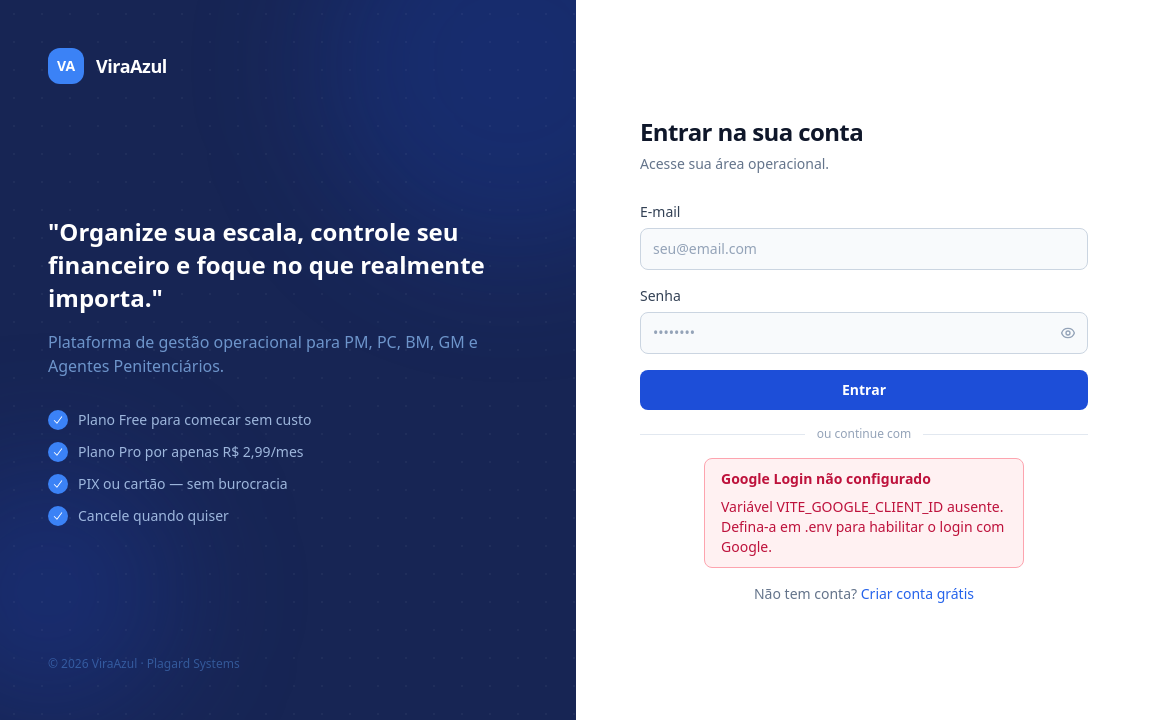
Scenario: Auth and App Shell integration › shows validation errors for invalid login submit
The width and height of the screenshot is (1152, 720).
Click the button "Entrar".
click(864, 390)  # box [640,370,1088,410]
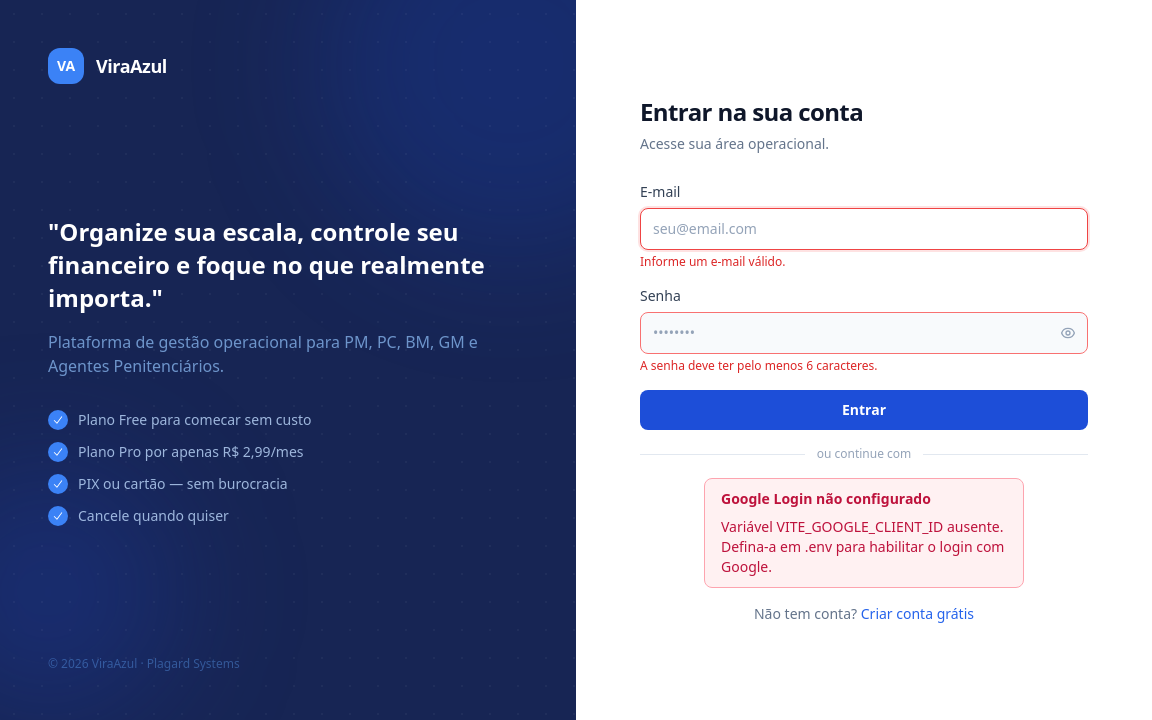
Expected: the text "Informe um e-mail válido." is shown, [640,253,786,270]
Expected: the text "A senha deve ter pelo menos 6 caracteres." is shown, [640,357,878,374]
